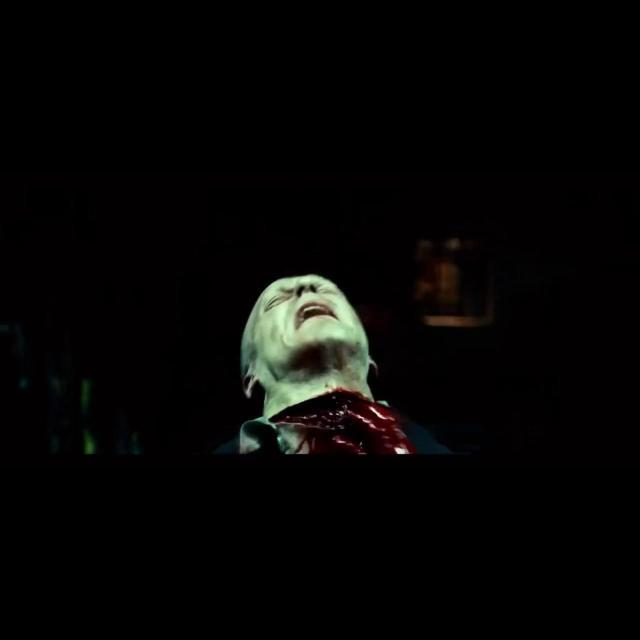blood: (270, 390, 450, 455)
